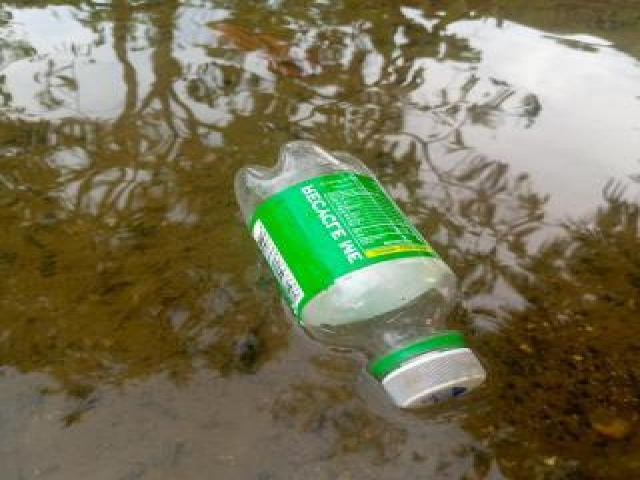Bottle: (226, 134, 494, 414)
